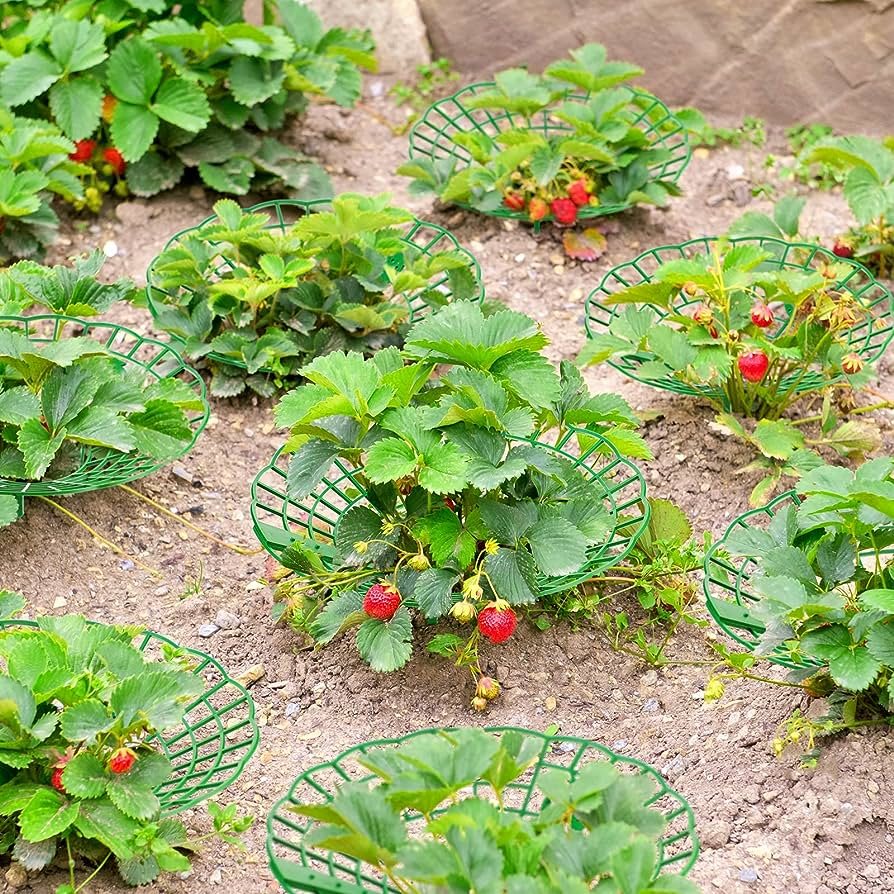red_strawberry: (476, 604, 516, 650), (364, 580, 398, 620), (105, 743, 140, 781), (736, 348, 769, 383), (69, 135, 98, 163), (550, 197, 579, 222), (565, 176, 588, 205), (525, 194, 548, 220), (750, 302, 769, 331), (99, 146, 120, 169)
